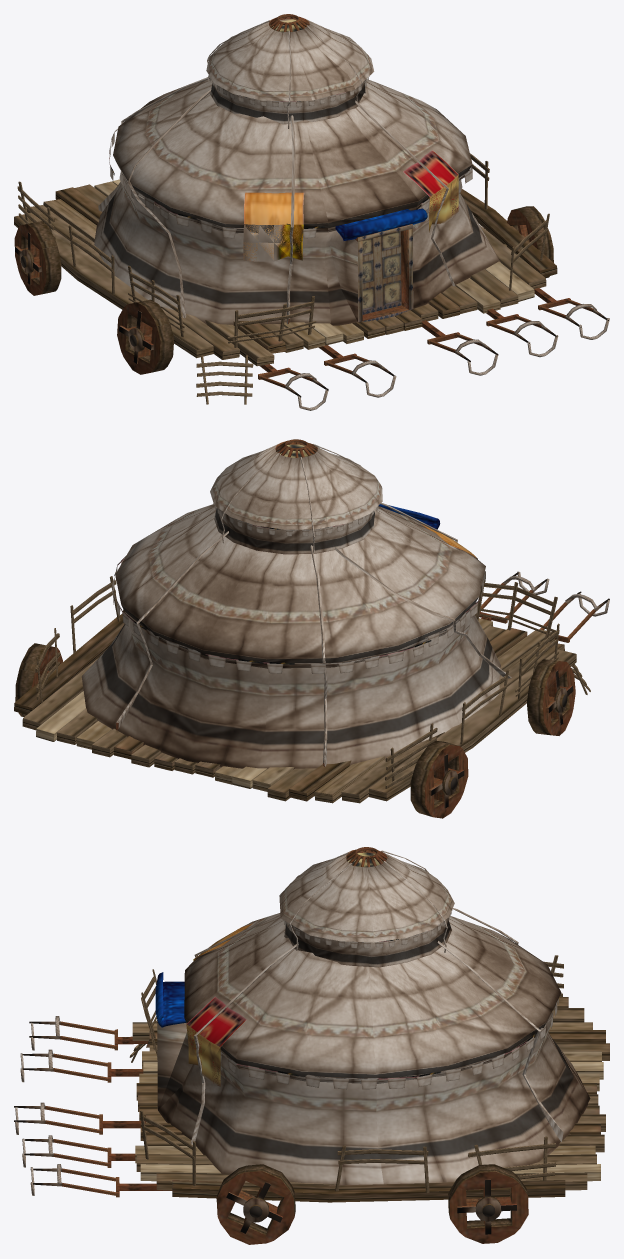
The picture shows the model from 3 angles, top to bottom: view 1: azimuth 30°, elevation 25°; view 2: azimuth 150°, elevation 25°; view 3: azimuth 270°, elevation 25°; orthographic projection. The views are drawn at different scales.
Parts seen in each view (by area): view 1: cc; view 2: cc; view 3: cc.
Boxes of the visible parts, x1,y1,x2,y2 form: cc: [14, 14, 609, 410]; cc: [14, 439, 609, 818]; cc: [14, 847, 609, 1244].
Size of the model in its own units: 18.63 by 21.61 by 11.62.
